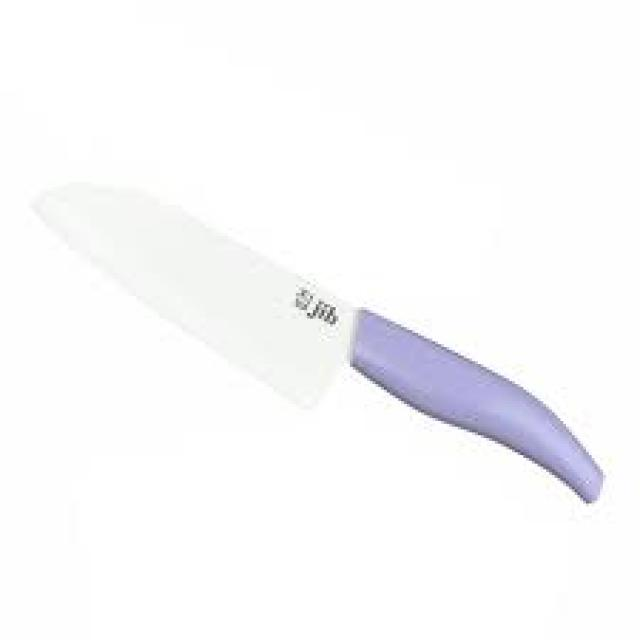Knife: (34, 182, 603, 501)
